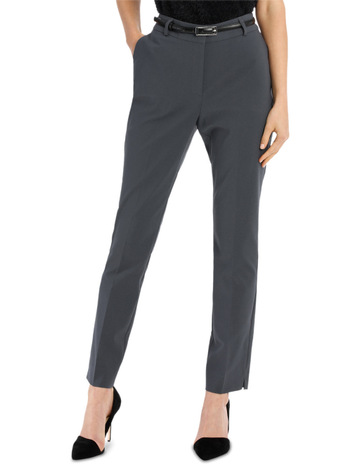feet: (54, 355, 245, 464)
